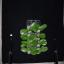leaf: (29, 22, 36, 30), (20, 28, 29, 34), (39, 24, 47, 30), (39, 47, 48, 52), (38, 39, 46, 44), (30, 50, 38, 55), (20, 35, 29, 39), (27, 37, 30, 49), (39, 33, 45, 39), (20, 48, 28, 52), (29, 47, 37, 51), (38, 41, 46, 45), (29, 34, 35, 39), (21, 44, 28, 48), (35, 22, 39, 29), (21, 41, 29, 44), (32, 27, 38, 31), (32, 40, 38, 44), (31, 43, 38, 46), (37, 35, 39, 38), (38, 50, 39, 52)
